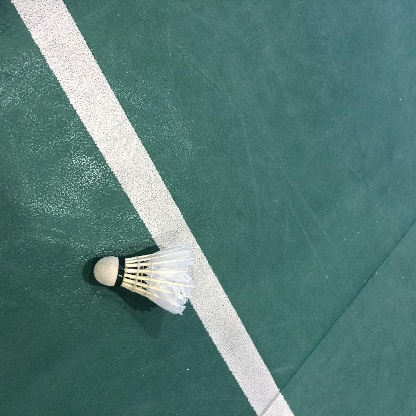ball_single: (94, 245, 196, 314)
